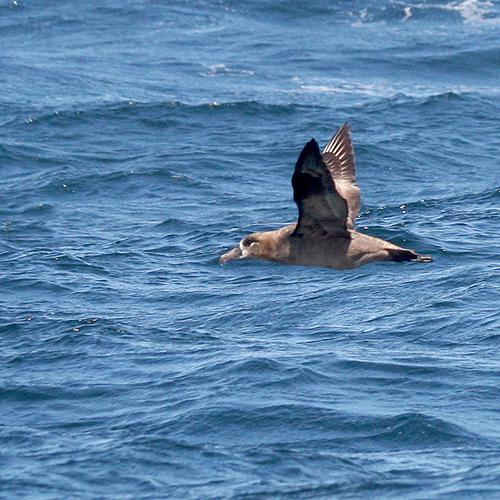001.Black_footed_Albatross: (219, 124, 434, 274)
